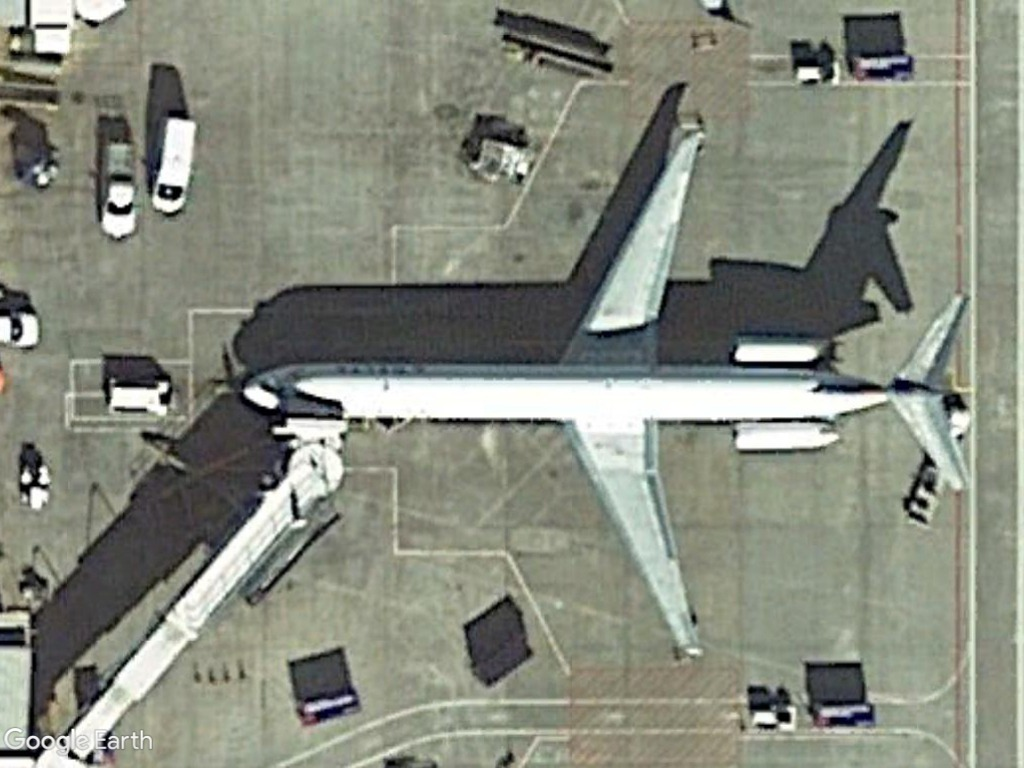chartered: (236, 127, 984, 664)
van: (149, 111, 197, 216)
